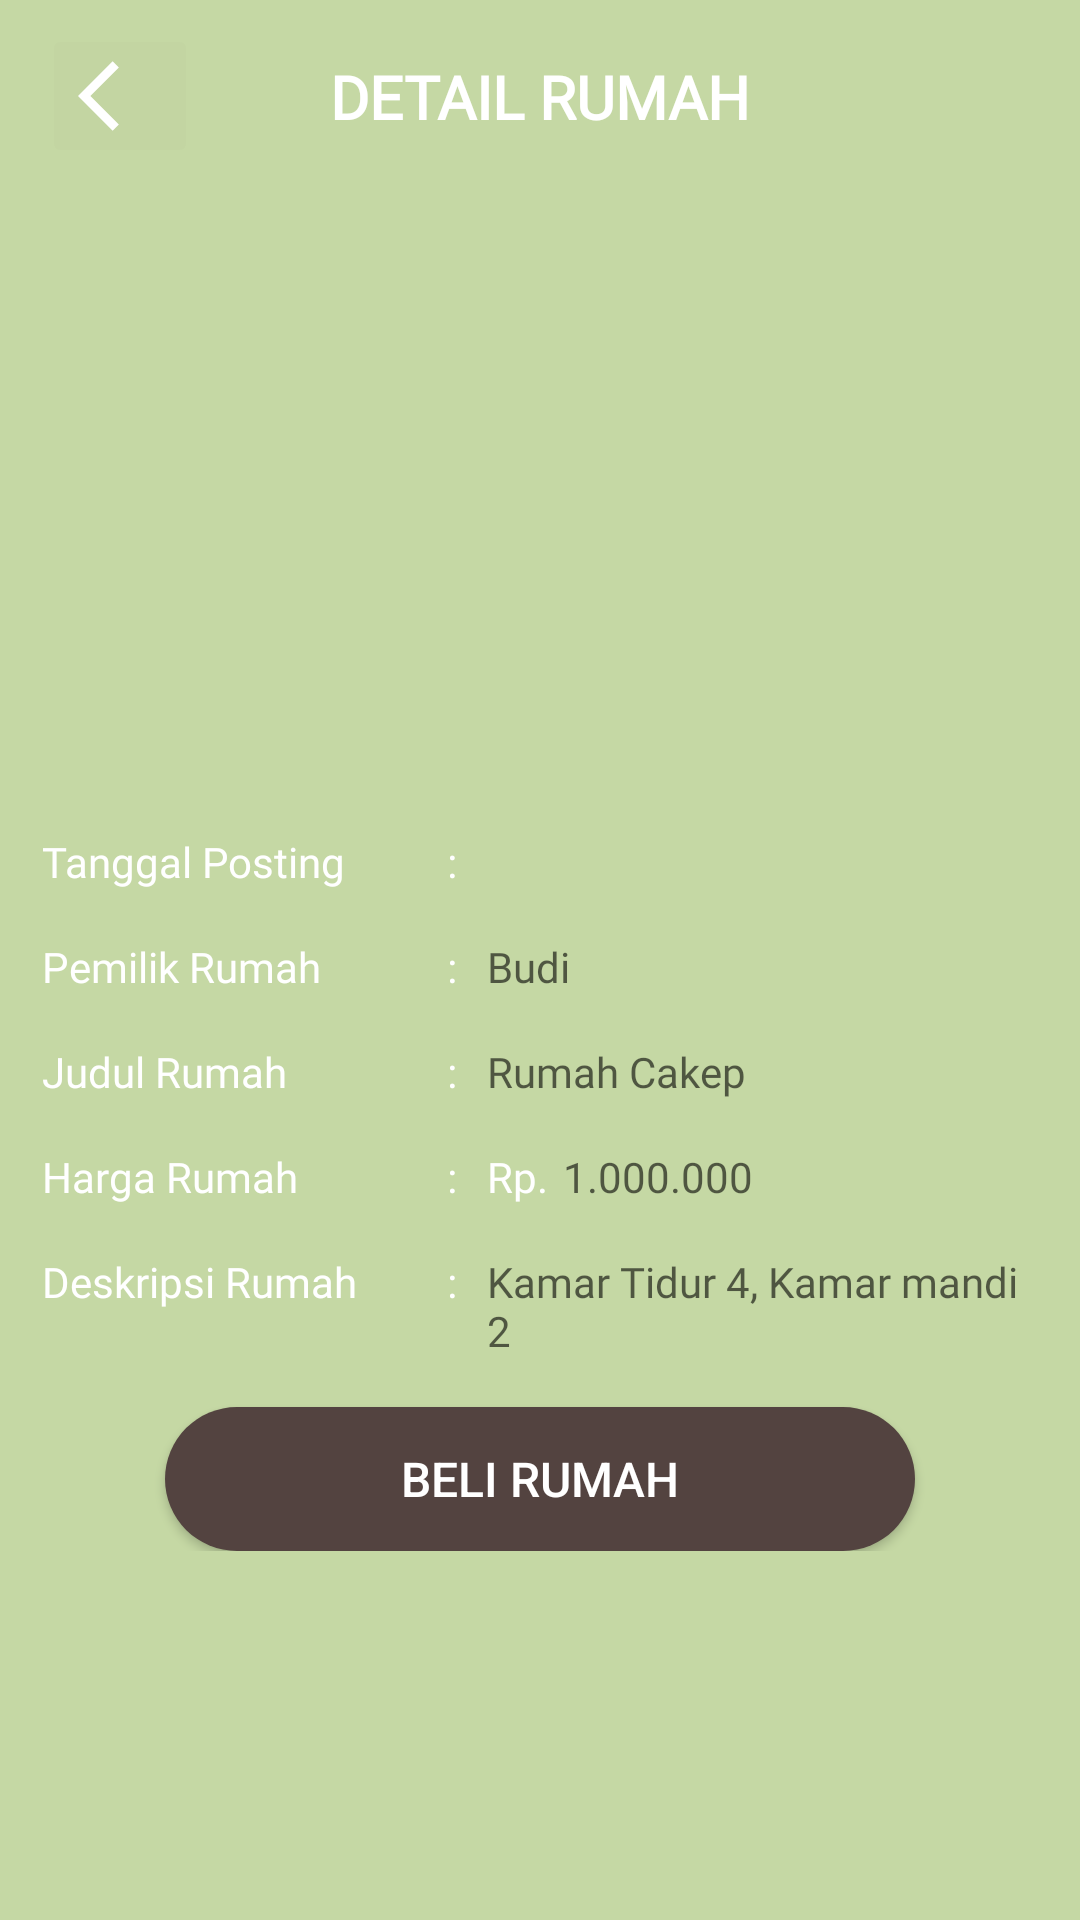

Named icons in this screenshot (1080 x 1920) and their bounding boxes, bbox=[x1, y1, x2, y2]:
back: bbox=[78, 61, 119, 131]
